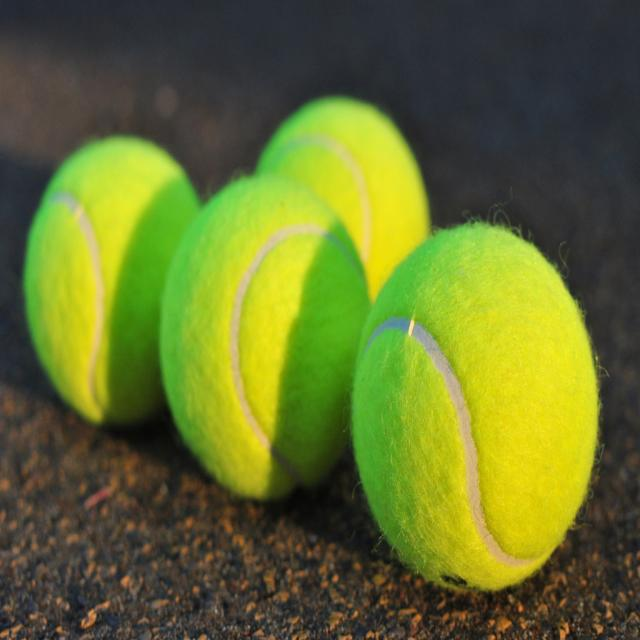Tennis ball: (352, 214, 606, 588), (163, 171, 371, 496), (22, 134, 200, 425), (253, 97, 434, 287)
